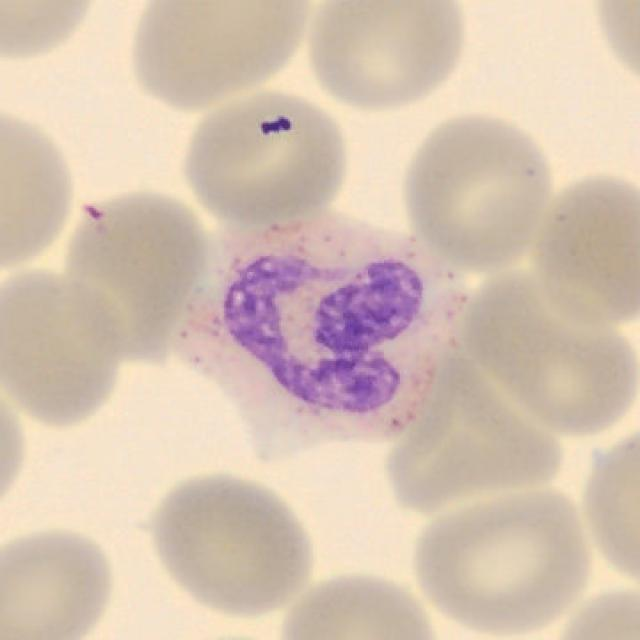Neutrofilo segmentado: (178, 213, 471, 464)
